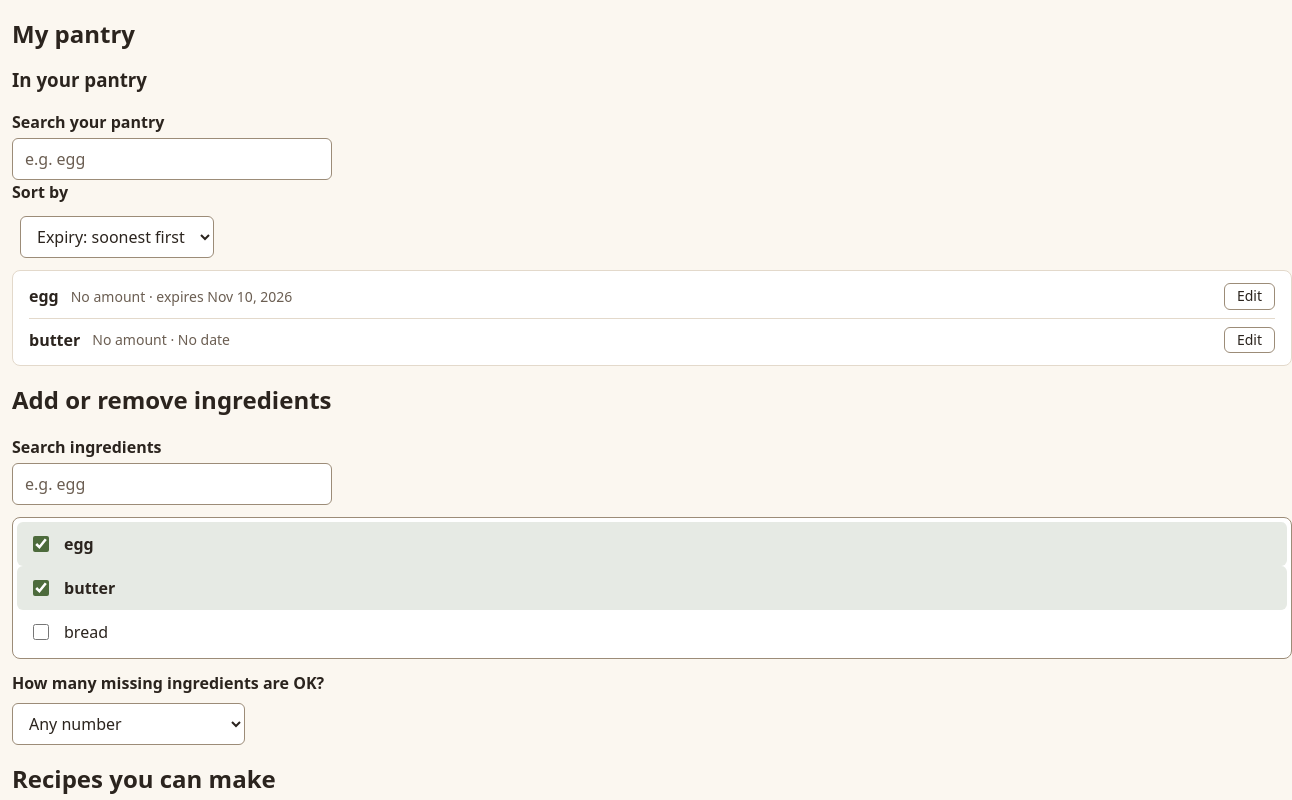
Test case: PantryPage: expiry dates › saves a date, shows what the server returned, and does not refresh the matches
Expected: the heading "In your pantry" is shown, x1=12 y1=67 x2=147 y2=92
Click the button with aria-label "Edit butter": (1249, 340) x1=1224 y1=327 x2=1275 y2=353
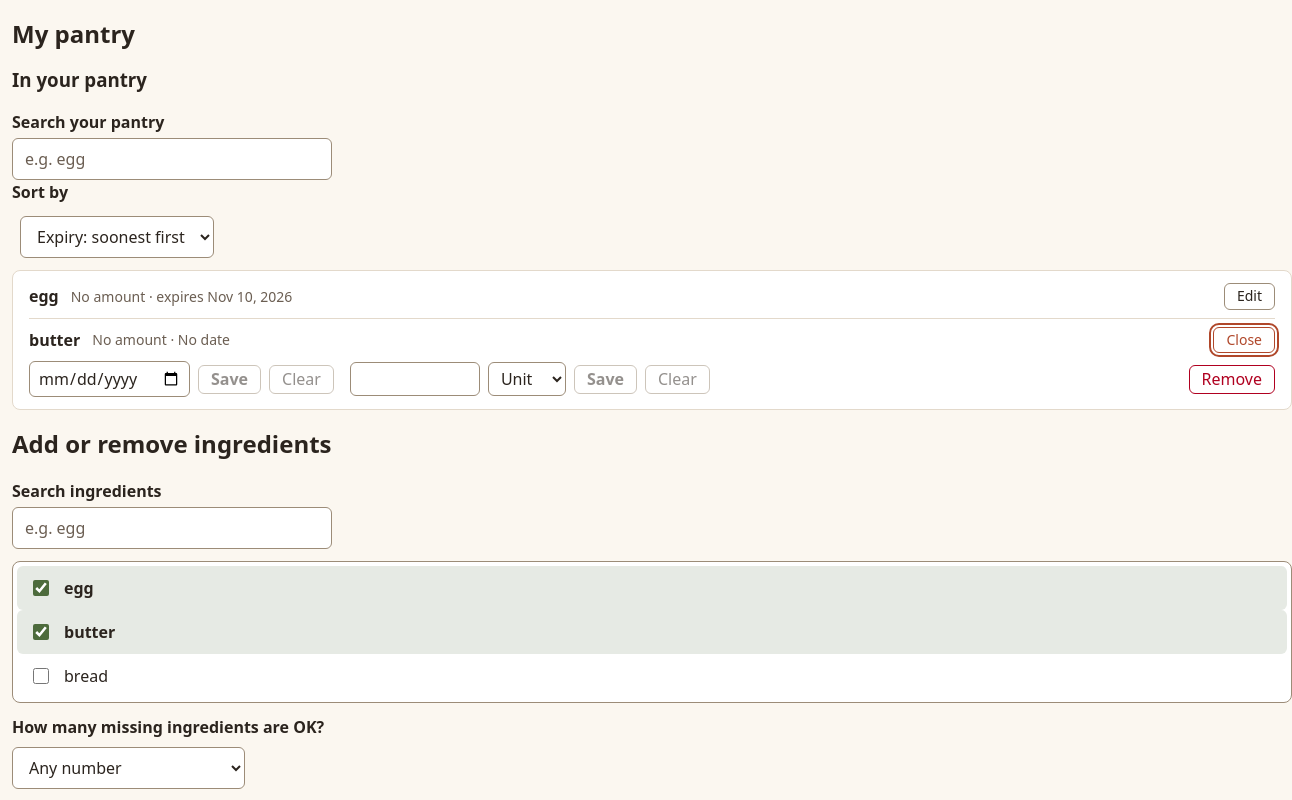
In the date field named "Expiry date for butter": (110, 379) x1=29 y1=361 x2=190 y2=397, type "2026-12-01"
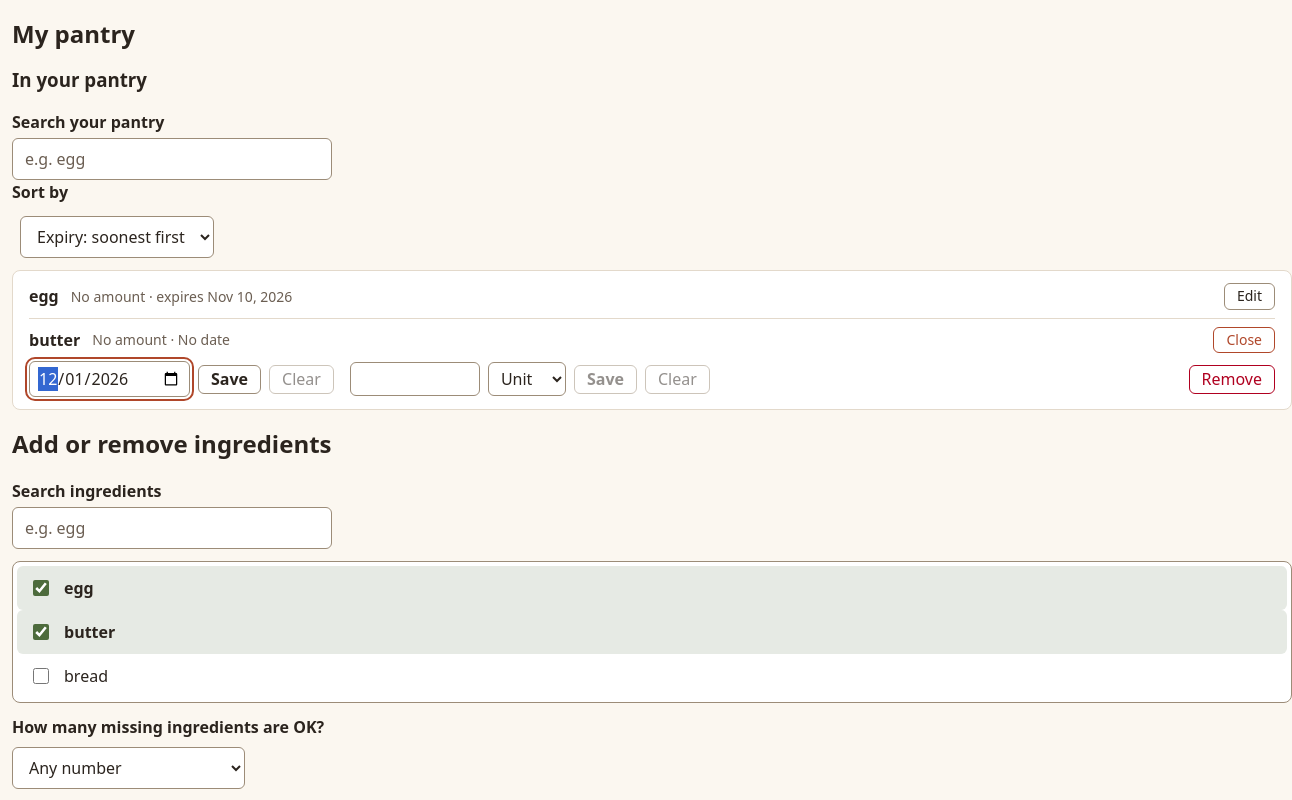
Click the button with aria-label "Save expiry date for butter": (230, 379) x1=198 y1=365 x2=261 y2=394
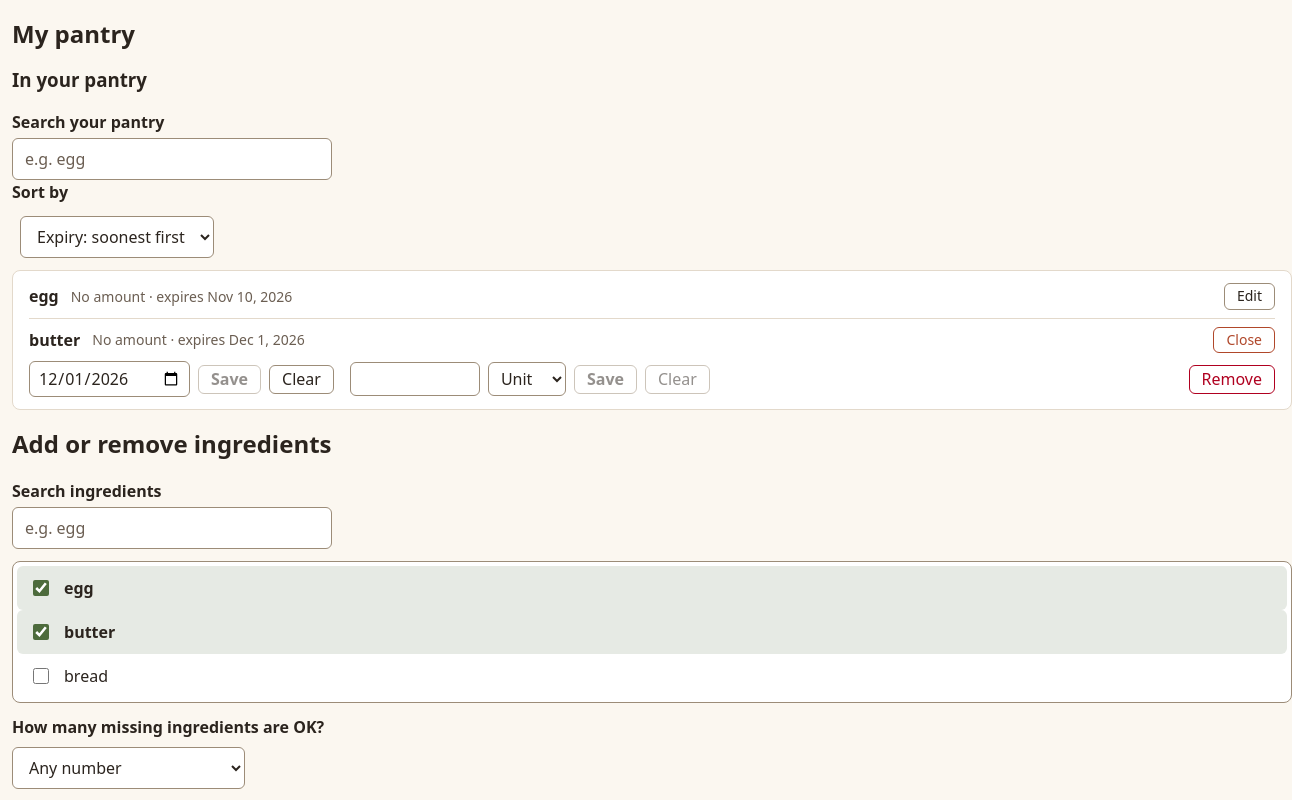
Expected: the text "expires Dec 1, 2026" is shown, x1=178 y1=330 x2=305 y2=350
